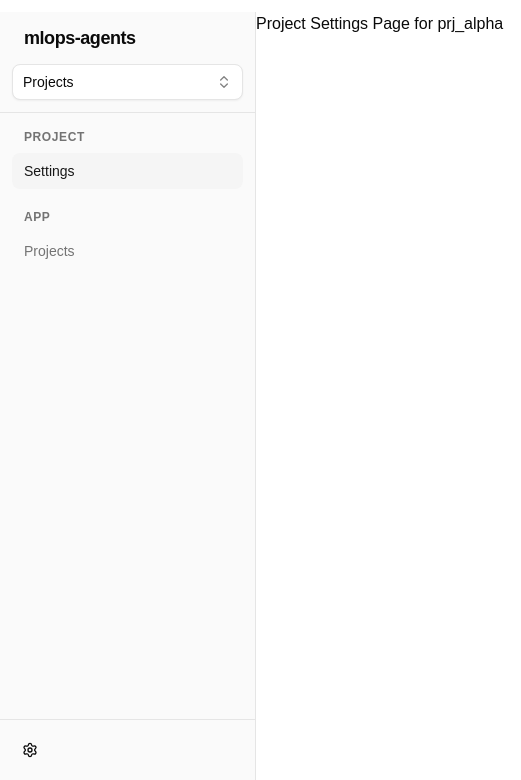
Test: ProjectSwitcher › shows a failed project list lookup in the switcher on a project page
Click the button "Projects": x=128, y=82 [12,64,243,100]
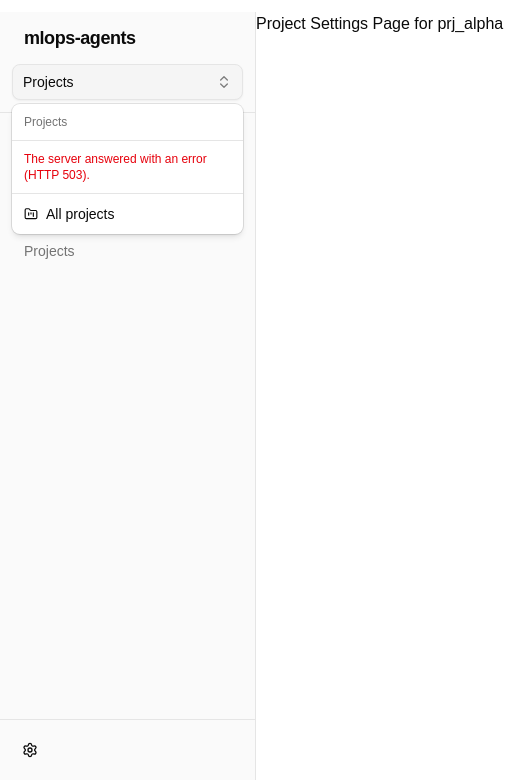
Check: the message reads "The server answered with an error (HTTP 503).", box [24,152,207,182]
